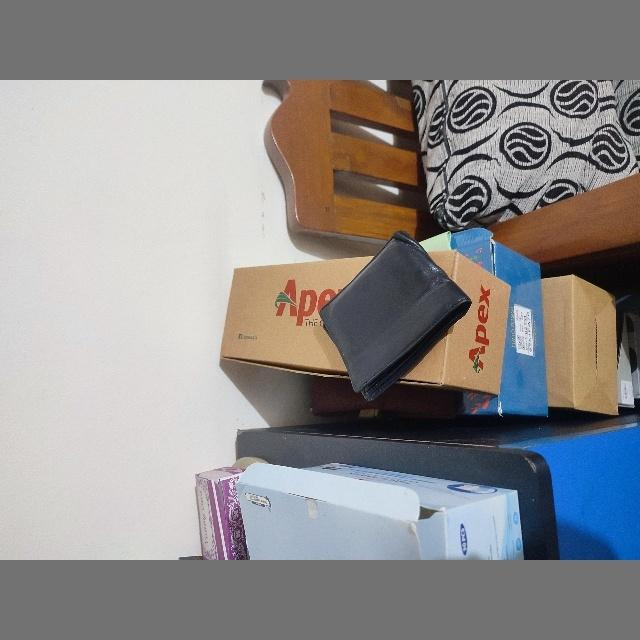Wallet: (318, 230, 472, 402)
